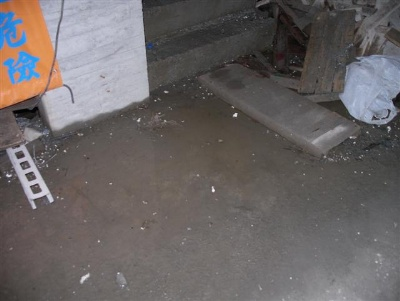plastic_bag: (341, 55, 400, 125)
